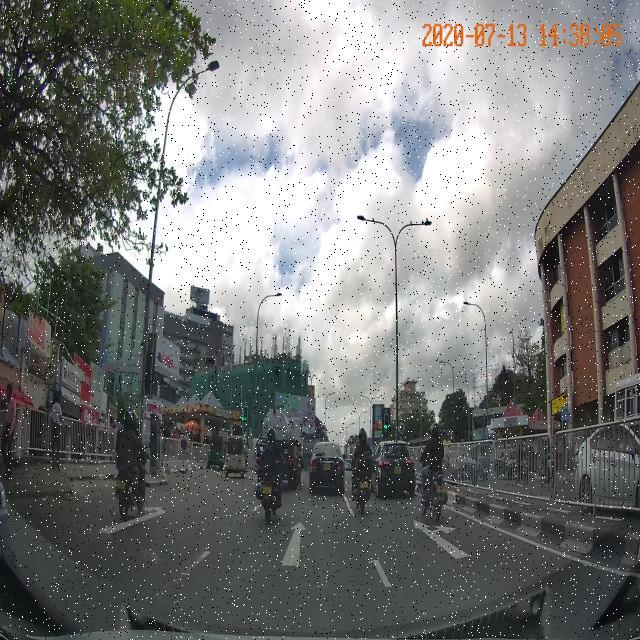forward: (174, 520, 403, 597)
